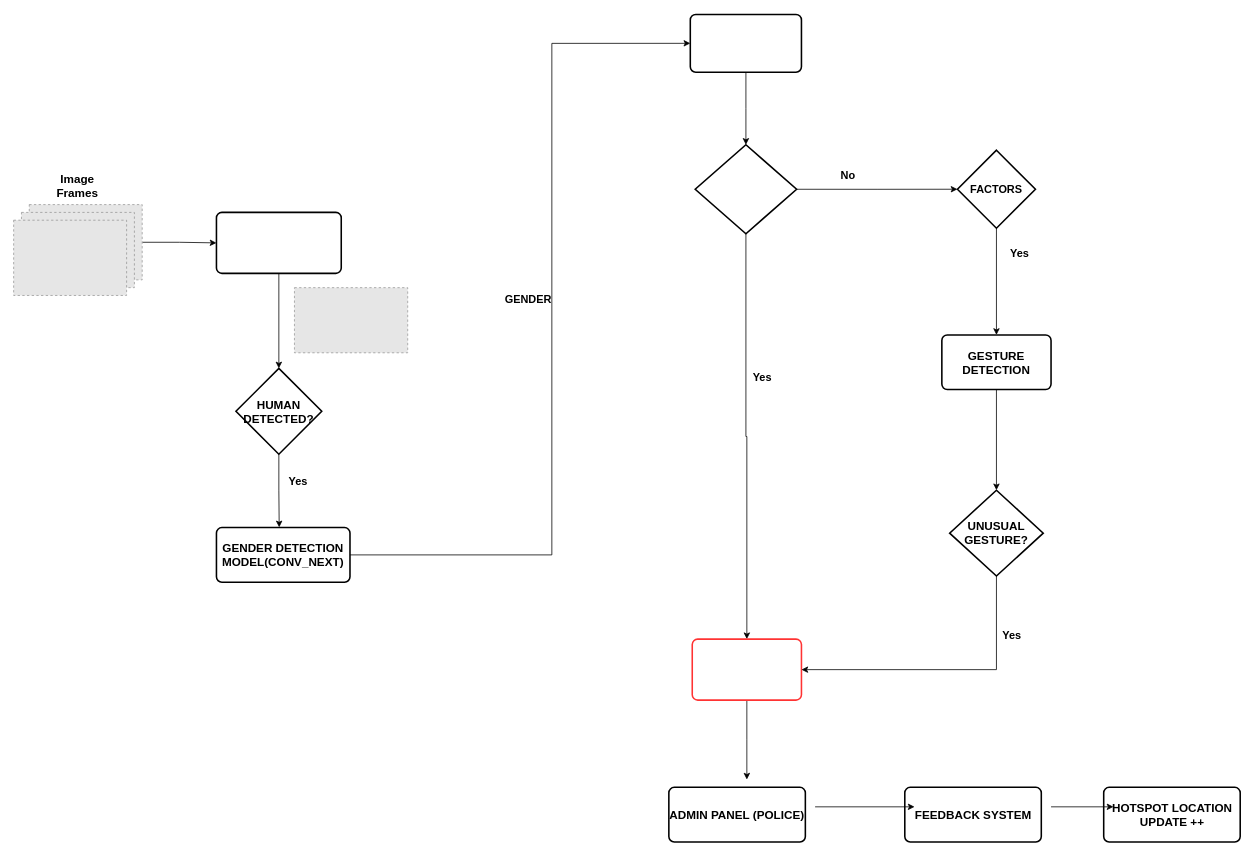
This 1254x856 diagram has some shape labels left out. Grey dashed boxes stand in for pictures. The centre of each missing label's shape, as x and y in pixels:
"ALERT SIGNAL" belongs at point (746, 669).
"GENDER DISTRIBUTION MODULE" belongs at point (745, 43).
"HUMAN DETECTION (YOLO)" belongs at point (278, 242).
"LONE WOMAN" belongs at point (745, 189).
